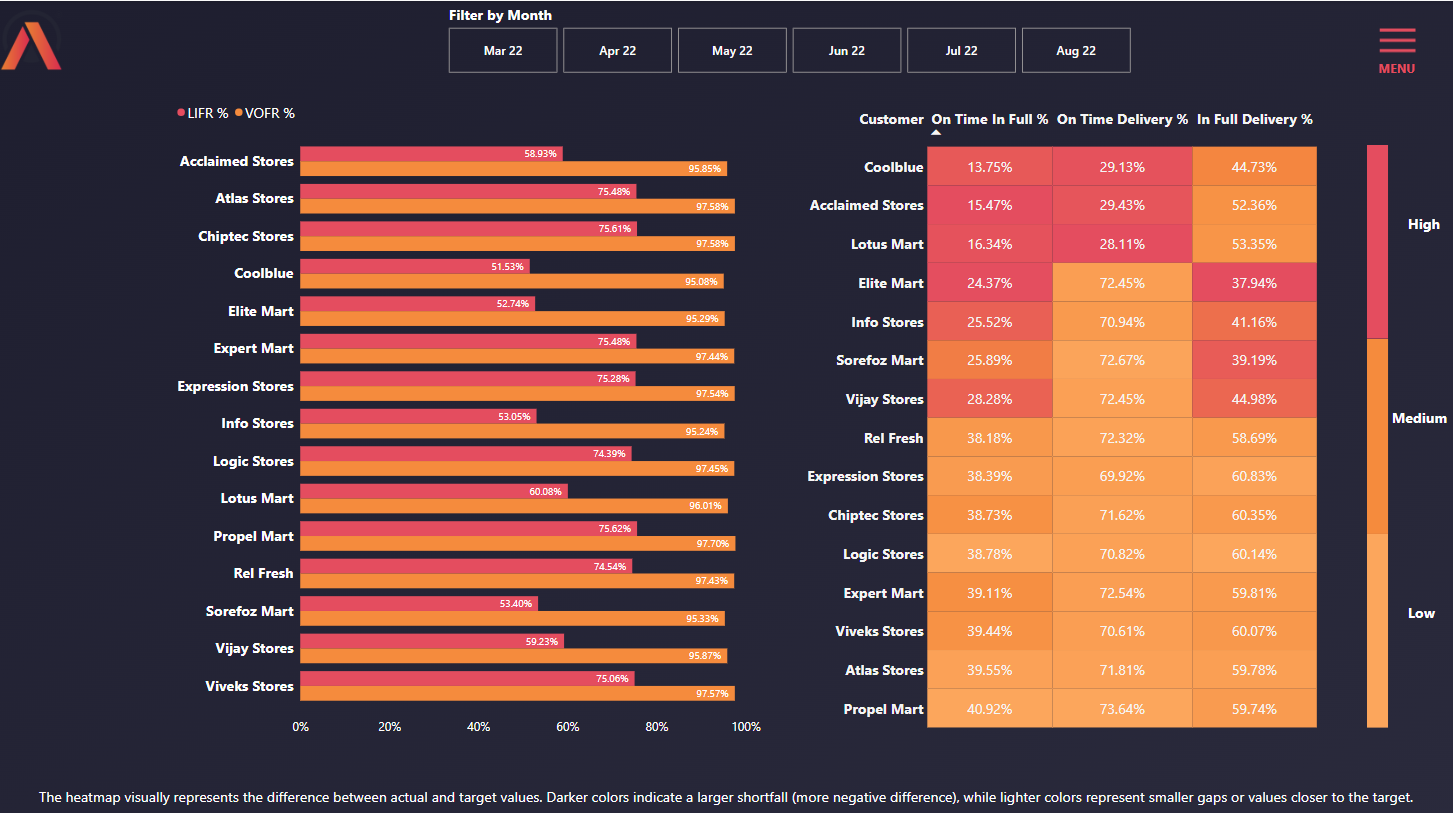

The dashboard page shown, as its layout file describes it:
{"tool":"powerbi","page":{"name":"Customers View","canvas":[1920,1080],"ordinal":1},"visuals":[{"type":"pivotTable","fields":{"Rows":["dim_customers.customer_name"],"Values":["Key Measures.On Time In Full %","Key Measures.On Time Delivery %","Key Measures.In Full Delivery %"]},"box":[1056.3,123.8,713.9,852.1],"z":0},{"type":"image","box":[0,0,92.8,101.7],"z":1000},{"type":"shape","box":[1804.7,189.7,27.7,255.3],"z":2000},{"type":"shape","box":[1804.7,701.8,27.7,255.3],"z":3000},{"type":"shape","box":[1804.7,445,27.7,256.8],"z":4000},{"type":"textbox","box":[1852.9,787.8,67.1,83.2],"z":5000},{"type":"textbox","box":[1832.5,531.1,87.5,83.2],"z":6000},{"type":"textbox","box":[1852.9,275.7,67.1,83.2],"z":7000},{"type":"textbox","box":[0,1030,1920,49.6],"z":8000},{"type":"clusteredBarChart","fields":{"Category":["dim_customers.customer_name"],"Y":["Key Measures.LIFR %","Key Measures.VOFR %"]},"box":[230.5,123.8,815.3,852.1],"z":9000},{"type":"image","title":"menu img","box":[1805.1,16.2,78.1,72.2],"z":10000},{"type":"textbox","title":"menuText box","box":[1770,72.2,147,31],"z":11000},{"type":"advancedSlicerVisual","title":"Filter by Month","fields":{"Values":["dim_date.mmm_yy"]},"box":[590,5.3,910.1,94.8],"z":20000}]}

Visuals, with their boxes in screenshot pixels (x1, y1, x2, y2), scaled from the page's 1920x1080 canvas onto the 1453x813 screenshot:
pivotTable - dim_customers.customer_name x Key Measures.On Time In Full %: {"x1": 799, "y1": 93, "x2": 1340, "y2": 735}
image: {"x1": 0, "y1": 0, "x2": 70, "y2": 77}
shape: {"x1": 1366, "y1": 143, "x2": 1387, "y2": 335}
shape: {"x1": 1366, "y1": 528, "x2": 1387, "y2": 720}
shape: {"x1": 1366, "y1": 335, "x2": 1387, "y2": 528}
textbox: {"x1": 1402, "y1": 593, "x2": 1452, "y2": 656}
textbox: {"x1": 1387, "y1": 400, "x2": 1452, "y2": 462}
textbox: {"x1": 1402, "y1": 208, "x2": 1452, "y2": 270}
textbox: {"x1": 0, "y1": 775, "x2": 1452, "y2": 812}
clusteredBarChart - dim_customers.customer_name x Key Measures.LIFR %: {"x1": 174, "y1": 93, "x2": 791, "y2": 735}
"menu img" image: {"x1": 1366, "y1": 12, "x2": 1425, "y2": 67}
"menuText box" textbox: {"x1": 1339, "y1": 54, "x2": 1451, "y2": 78}
"Filter by Month" advancedSlicerVisual: {"x1": 446, "y1": 4, "x2": 1135, "y2": 75}
